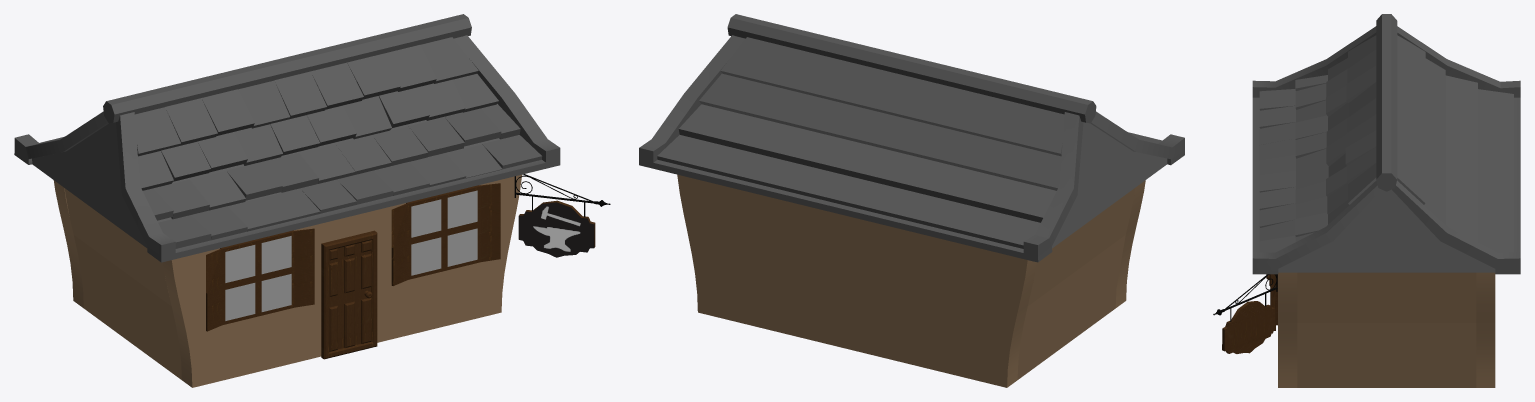
File: blacksmith.fbx
The picture shows the model from 3 angles, left to right: view 1: azimuth 30°, elevation 25°; view 2: azimuth 150°, elevation 25°; view 3: azimuth 270°, elevation 25°; orthographic projection. The views are drawn at different scales.
Parts seen in each view (by area): view 1: polySurface17; view 2: polySurface17; view 3: polySurface17.
Part boxes in pixels (<box>): polySurface17: <box>14,14,610,387</box>; polySurface17: <box>639,14,1184,387</box>; polySurface17: <box>1213,14,1520,387</box>.
Bounding box in the file's own units: 11.75 × 6.49 × 8.01.
8 materials, 2 textured.
